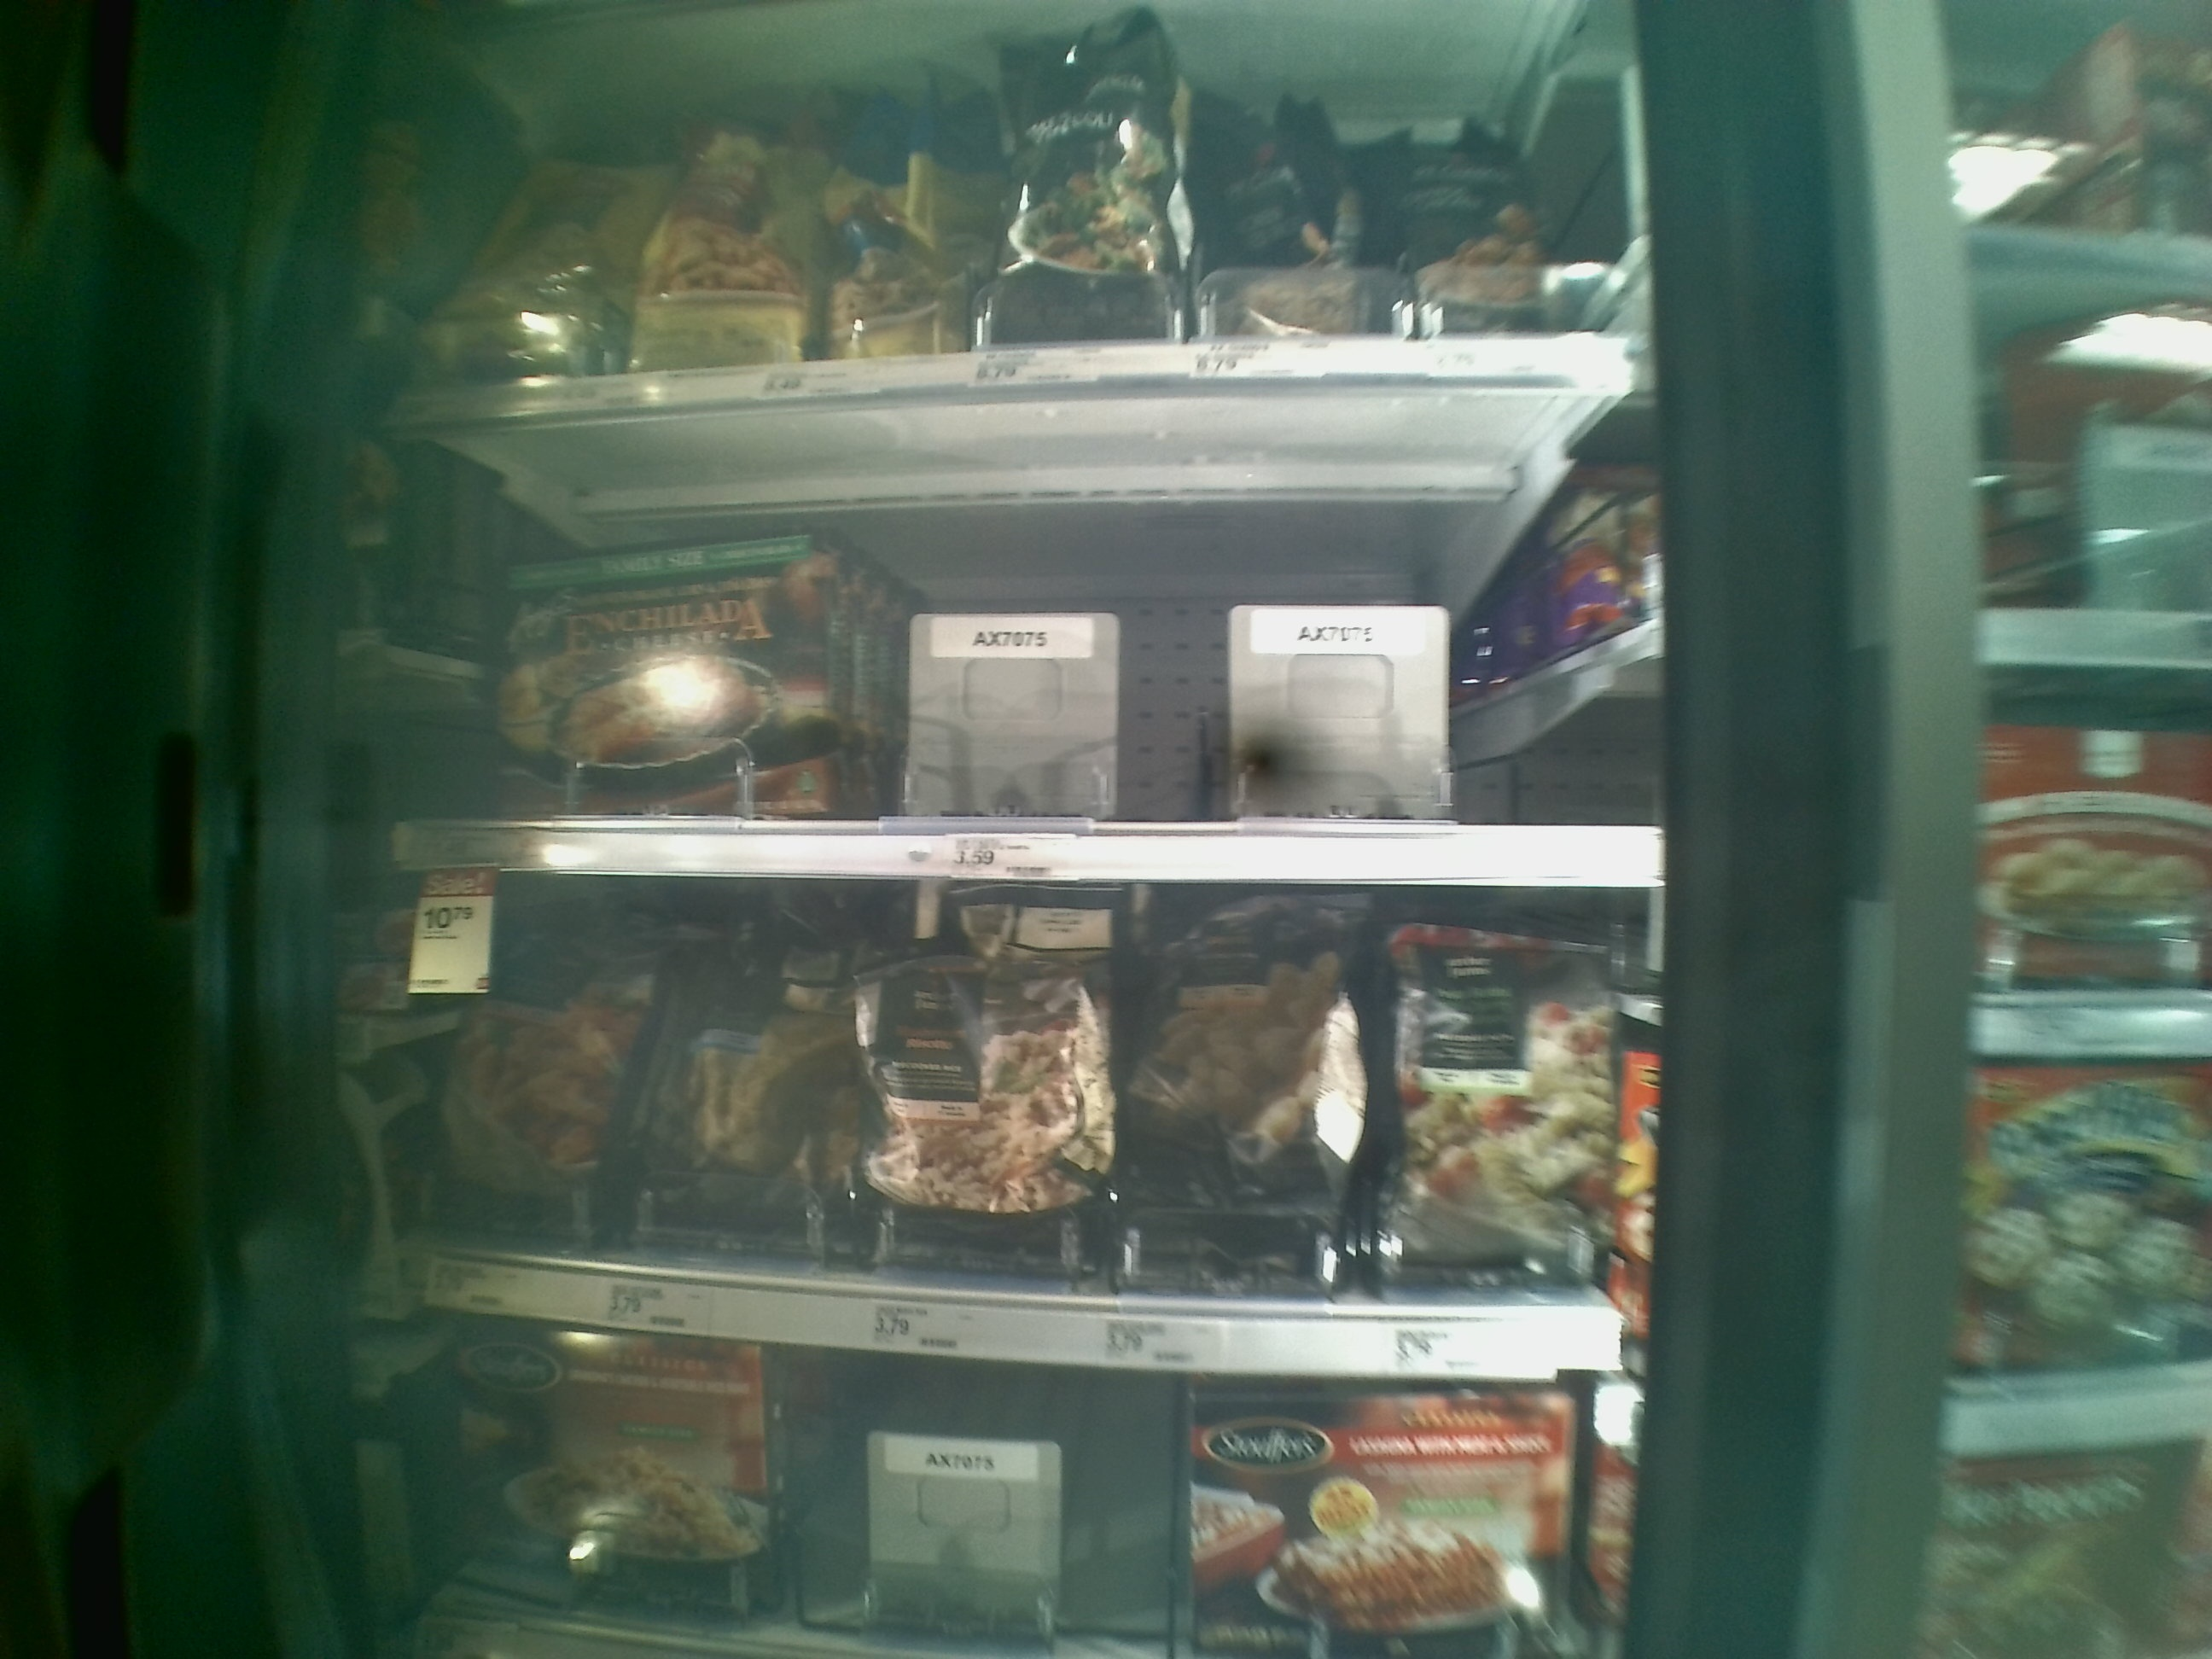shelf: (416, 878, 1635, 1375), (383, 427, 1669, 885), (371, 23, 1667, 413)
